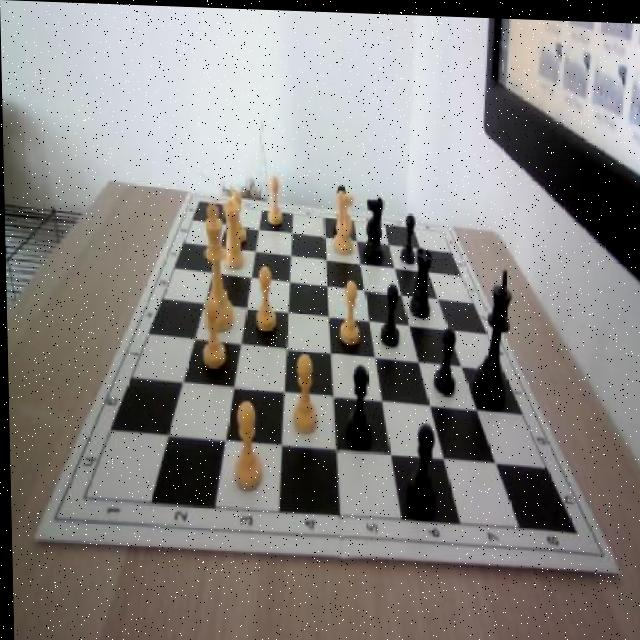black-bishop: (470, 266, 514, 403)
black-king: (361, 191, 384, 263)
black-knight: (406, 420, 436, 509), (345, 362, 372, 448), (430, 323, 455, 393), (378, 279, 401, 347), (399, 210, 415, 263)
black-queen: (409, 241, 433, 316)
white-bishop: (197, 200, 233, 331)
white-king: (331, 187, 354, 253)
white-knight: (228, 399, 262, 490), (287, 348, 320, 434), (197, 294, 226, 370), (250, 264, 276, 333), (338, 276, 360, 342), (265, 174, 284, 223), (228, 190, 246, 240)
white-queen: (220, 197, 245, 268)
